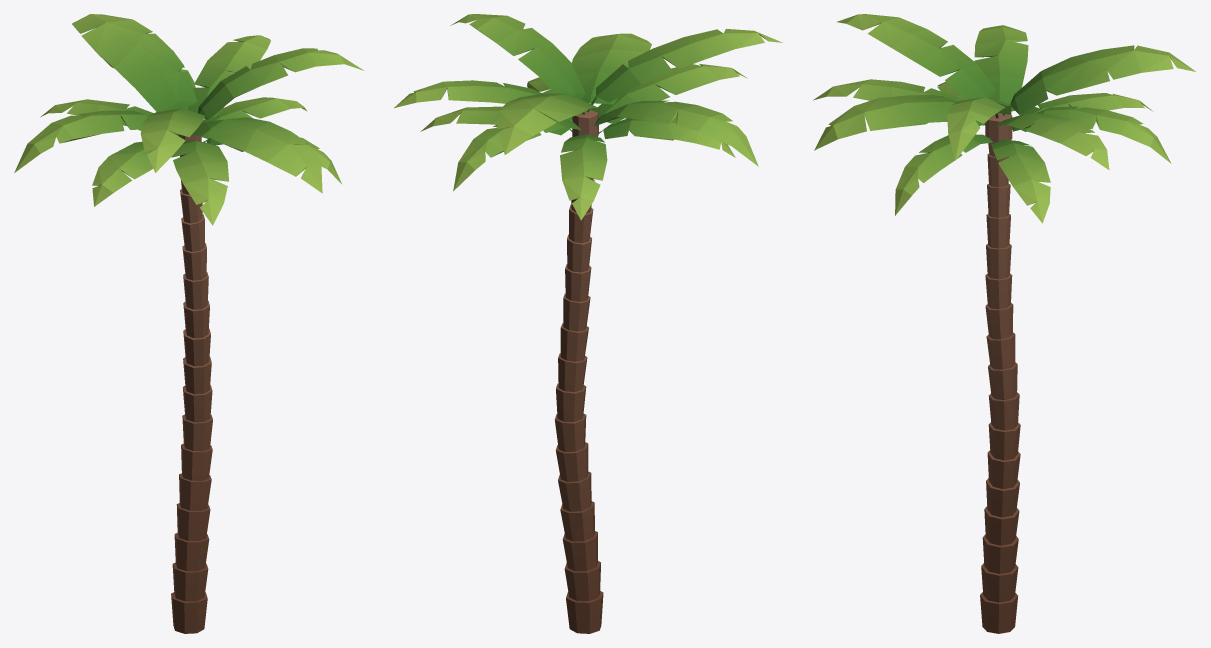
File: PalmTree_01.fbx
The picture shows the model from 3 angles, left to right: view 1: azimuth 30°, elevation 25°; view 2: azimuth 150°, elevation 25°; view 3: azimuth 270°, elevation 25°; orthographic projection. The views are drawn at different scales.
Visible parts, largest first — view 1: PalmTree_01_LOD0; view 2: PalmTree_01_LOD0; view 3: PalmTree_01_LOD0.
Part boxes in pixels (x1=…): PalmTree_01_LOD0: x1=14, y1=14, x2=364, y2=633; PalmTree_01_LOD0: x1=394, y1=14, x2=782, y2=633; PalmTree_01_LOD0: x1=813, y1=14, x2=1195, y2=633.
Size of what is drawn, in the model's own units: 275 by 451 by 276.
